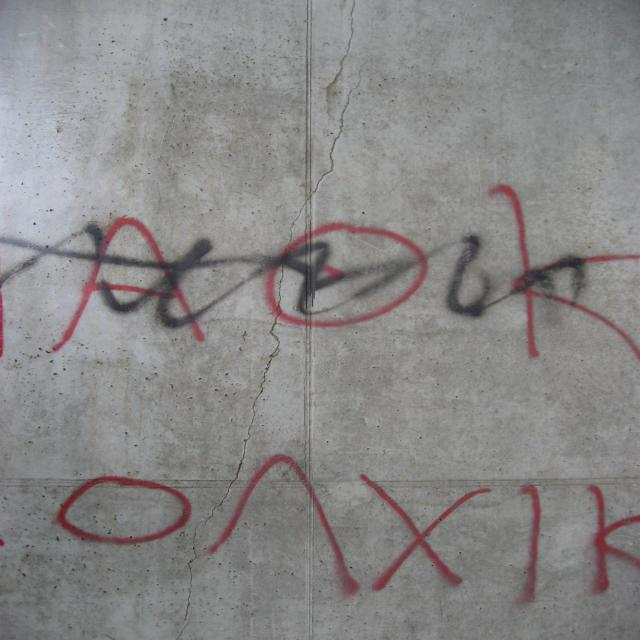diagonal crack: (175, 0, 365, 640)
